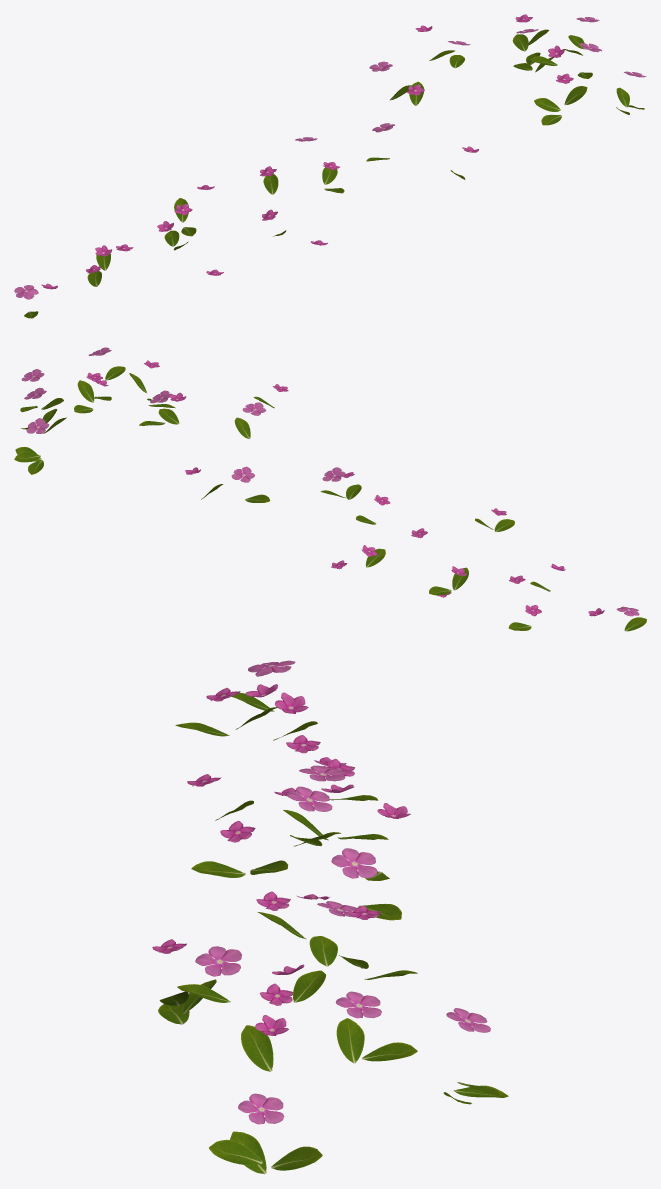
The model's file is periwinkle_plant.glb.
3 views of the same model, one above another, from view 1: azimuth 30°, elevation 25°; view 2: azimuth 150°, elevation 25°; view 3: azimuth 270°, elevation 25° (orthographic). The views are drawn at different scales.
Parts seen in each view (by area): view 1: periwinkle_plant_01_LOD0, periwinkle_plant_02_LOD0, periwinkle_plant_03_LOD0, periwinkle_plant_04_LOD0, periwinkle_plant_05_LOD0; view 2: periwinkle_plant_01_LOD0, periwinkle_plant_02_LOD0, periwinkle_plant_03_LOD0, periwinkle_plant_04_LOD0, periwinkle_plant_05_LOD0, periwinkle_plant_06_LOD0; view 3: periwinkle_plant_01_LOD0, periwinkle_plant_02_LOD0, periwinkle_plant_03_LOD0, periwinkle_plant_04_LOD0, periwinkle_plant_06_LOD0, periwinkle_plant_05_LOD0.
Part boxes in pixels (left/top/right/bottom): periwinkle_plant_01_LOD0: left=512, top=14, right=646, bottom=125; periwinkle_plant_02_LOD0: left=366, top=25, right=478, bottom=179; periwinkle_plant_03_LOD0: left=260, top=137, right=344, bottom=245; periwinkle_plant_04_LOD0: left=157, top=185, right=223, bottom=275; periwinkle_plant_05_LOD0: left=85, top=244, right=133, bottom=286; periwinkle_plant_01_LOD0: left=14, top=347, right=175, bottom=474; periwinkle_plant_02_LOD0: left=139, top=384, right=288, bottom=502; periwinkle_plant_03_LOD0: left=320, top=467, right=390, bottom=569; periwinkle_plant_04_LOD0: left=411, top=508, right=514, bottom=597; periwinkle_plant_05_LOD0: left=508, top=563, right=565, bottom=630; periwinkle_plant_06_LOD0: left=588, top=606, right=646, bottom=631; periwinkle_plant_01_LOD0: left=152, top=905, right=508, bottom=1174; periwinkle_plant_02_LOD0: left=187, top=765, right=410, bottom=1071; periwinkle_plant_03_LOD0: left=191, top=786, right=340, bottom=1005; periwinkle_plant_04_LOD0: left=175, top=687, right=388, bottom=910; periwinkle_plant_06_LOD0: left=231, top=660, right=308, bottom=713; periwinkle_plant_05_LOD0: left=245, top=684, right=378, bottom=800.
Size of the model in its own units: 1.22 by 0.309 by 0.3069.
1 material, 1 textured.
